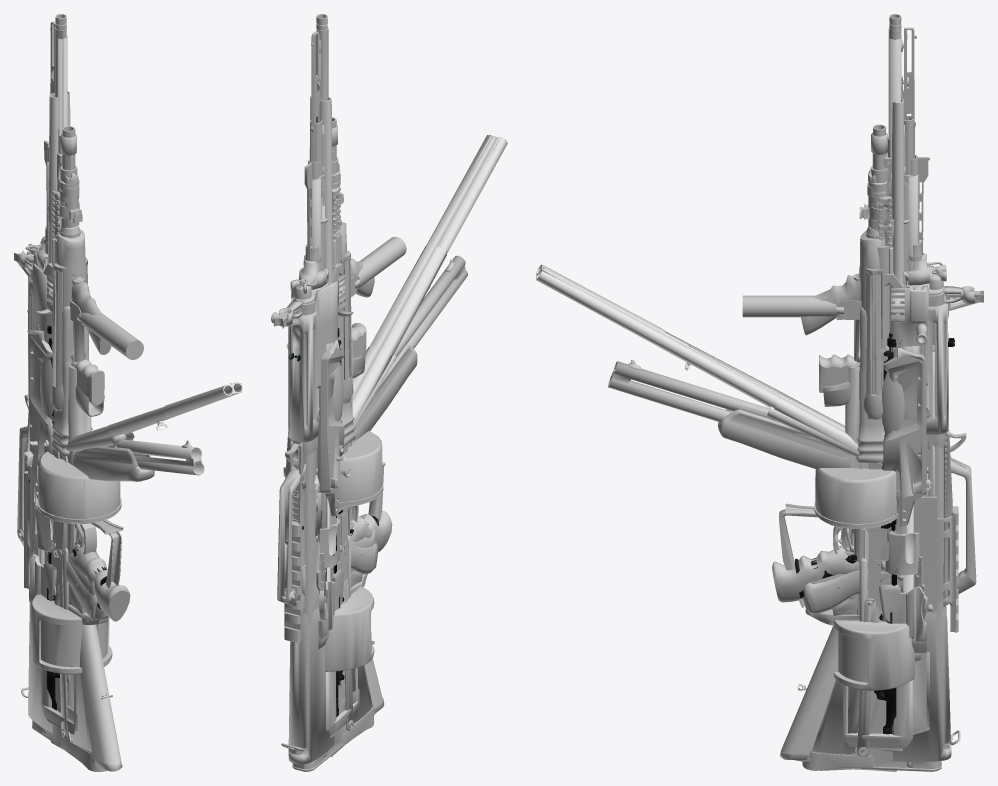
File: Shotgun.fbx
3 renders of one model, left to right at view 1: azimuth 30°, elevation 25°; view 2: azimuth 150°, elevation 25°; view 3: azimuth 270°, elevation 25°, orthographic. The views are drawn at different scales.
Parts seen in each view (by area): view 1: Striker, Jackhammer, IZH58, SWMP_12, DB_Condor_OPEN, AA12, Shorty, USAS12, SPAS12, IZH58_OPEN, QBS09, SPAS15 (+14 smaller); view 2: USAS12, IZH58_OPEN, AA12, SWMP_12, Jackhammer, SPAS15, DB_Condor_OPEN, Striker, SPAS12, Shorty, IZH58, Beretta_A400 (+10 smaller); view 3: SWMP_12, USAS12, AA12, Jackhammer, DB_Condor_OPEN, IZH58_OPEN, Striker, IZH58, Shorty, SPAS15, SPAS12, ENARM_Pentagun (+14 smaller).
Boxes of the visible parts, x1,y1,x2,y2 form: Striker: (36,309,121,761); Jackhammer: (26,467,112,734); IZH58: (48,91,121,771); SWMP_12: (24,324,104,605); DB_Condor_OPEN: (73,439,204,481); AA12: (14,226,123,751); Shorty: (54,276,143,621); USAS12: (17,161,76,733); SPAS12: (42,178,95,732); IZH58_OPEN: (67,382,242,771); QBS09: (63,278,91,683); SPAS15: (27,206,97,730); USAS12: (271,177,334,764); IZH58_OPEN: (315,135,507,699); AA12: (274,244,385,771); SWMP_12: (283,340,365,649); Jackhammer: (289,441,374,737); SPAS15: (290,198,378,752); DB_Condor_OPEN: (354,255,467,441); Striker: (330,310,383,756); SPAS12: (310,180,375,710); Shorty: (340,236,406,552); IZH58: (309,95,384,712); Beretta_A400: (311,14,349,477); SWMP_12: (823,345,947,734); USAS12: (851,175,976,761); AA12: (779,241,983,771); Jackhammer: (805,429,956,751); DB_Condor_OPEN: (608,360,850,469); IZH58_OPEN: (536,264,930,759); Striker: (806,354,898,771); IZH58: (780,99,904,759); Shorty: (742,275,888,602); SPAS15: (803,220,946,614); SPAS12: (810,181,920,584); ENARM_Pentagun: (847,219,919,611).
Size of the model in its own units: 0.0821 by 0.77 by 0.4162.
